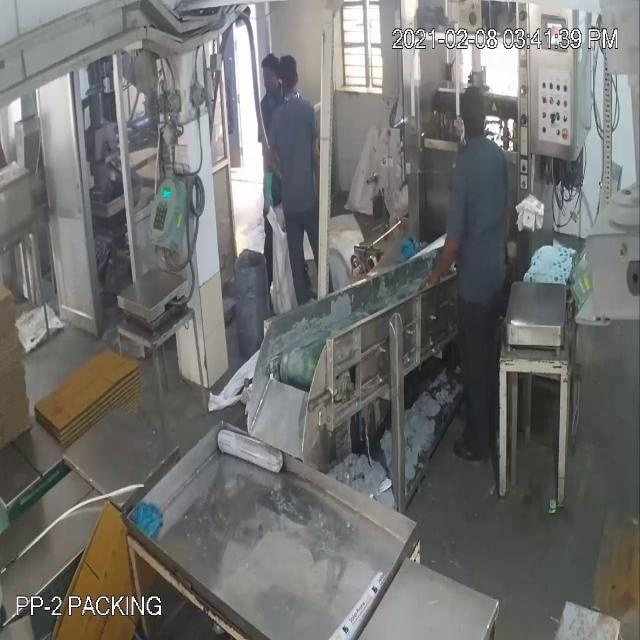No_Gloves: (418, 223, 473, 305)
